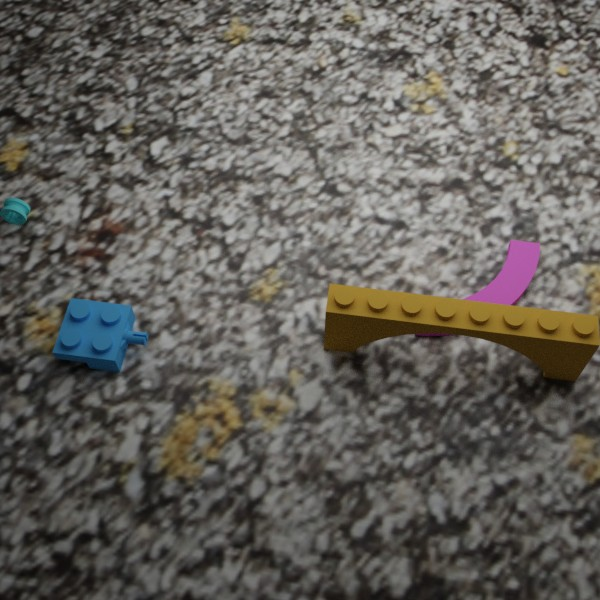lego: (323, 283, 600, 381), (414, 239, 540, 336), (52, 298, 148, 372), (0, 197, 30, 224)
